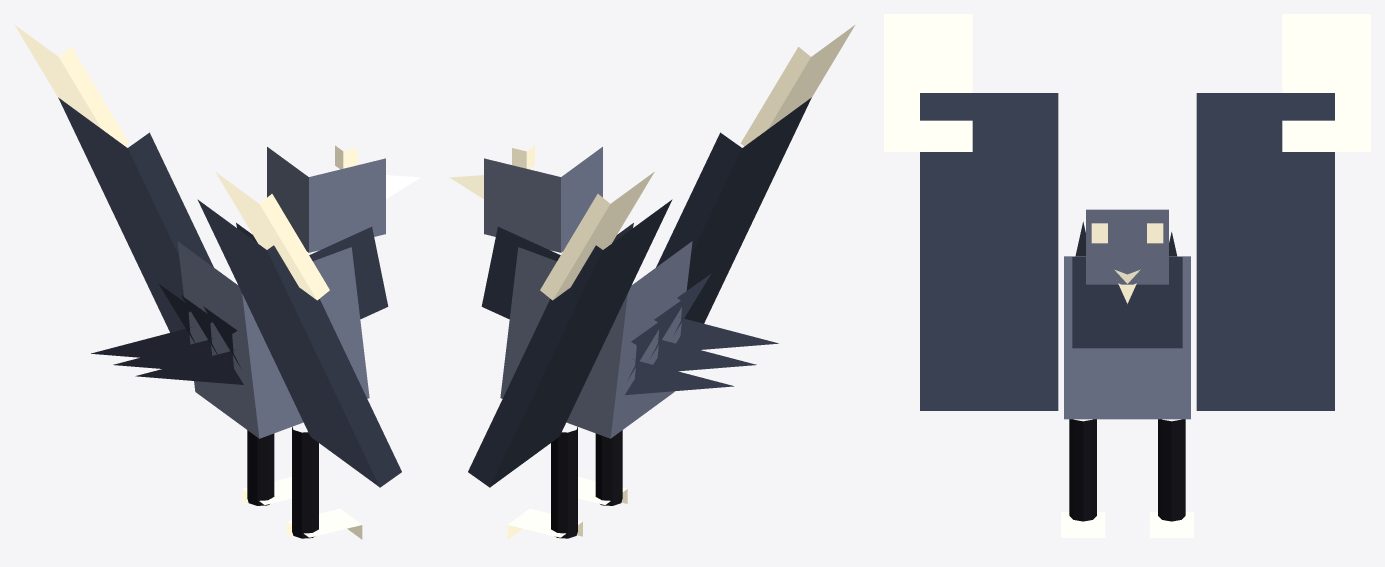
Rendered from flier.glb.
The picture shows the model from 3 angles, left to right: view 1: azimuth 30°, elevation 25°; view 2: azimuth 150°, elevation 25°; view 3: azimuth 270°, elevation 25°; orthographic projection.
Parts seen in each view (by area): view 1: flier-wing-l, flier-body, flier-wing-r, flier-head, flier-wingtip-l, flier-wingtip-r, flier-chest, flier-leg-l, flier-tail-2, flier-leg-r, flier-tail-0, flier-tail-1 (+2 smaller); view 2: flier-wing-r, flier-body, flier-wing-l, flier-head, flier-wingtip-r, flier-wingtip-l, flier-chest, flier-leg-r, flier-tail-0, flier-tail-1, flier-tail-2, flier-leg-l (+2 smaller); view 3: flier-wing-l, flier-wing-r, flier-wingtip-l, flier-wingtip-r, flier-body, flier-chest, flier-head, flier-leg-l, flier-leg-r, flier-foot-l, flier-foot-r.
Part boxes in pixels (<box>): flier-wing-l: <box>197,199,401,487</box>; flier-body: <box>177,241,369,438</box>; flier-wing-r: <box>58,97,213,332</box>; flier-head: <box>267,147,385,252</box>; flier-wingtip-l: <box>215,171,329,300</box>; flier-wingtip-r: <box>15,25,129,146</box>; flier-chest: <box>236,223,388,319</box>; flier-leg-l: <box>292,427,318,538</box>; flier-tail-2: <box>135,306,243,384</box>; flier-leg-r: <box>247,430,274,505</box>; flier-tail-0: <box>91,284,194,357</box>; flier-tail-1: <box>113,295,217,368</box>; flier-wing-r: <box>468,199,672,487</box>; flier-body: <box>500,241,692,438</box>; flier-wing-l: <box>656,97,811,323</box>; flier-head: <box>484,147,602,252</box>; flier-wingtip-r: <box>540,171,654,300</box>; flier-wingtip-l: <box>740,25,854,146</box>; flier-chest: <box>481,223,633,319</box>; flier-leg-r: <box>551,427,577,538</box>; flier-tail-0: <box>625,316,733,395</box>; flier-tail-1: <box>650,295,756,371</box>; flier-tail-2: <box>673,273,778,349</box>; flier-leg-l: <box>595,430,622,505</box>; flier-wing-l: <box>920,93,1058,410</box>; flier-wing-r: <box>1196,93,1334,410</box>; flier-wingtip-l: <box>884,14,972,151</box>; flier-wingtip-r: <box>1282,14,1370,151</box>; flier-body: <box>1064,256,1190,419</box>; flier-chest: <box>1072,257,1182,348</box>; flier-head: <box>1086,209,1168,284</box>; flier-leg-l: <box>1069,419,1096,521</box>; flier-leg-r: <box>1158,419,1185,521</box>; flier-foot-l: <box>1061,512,1105,537</box>; flier-foot-r: <box>1149,512,1193,537</box>.
Bounding box in the file's own units: 1.28 × 1.8 × 1.76.
